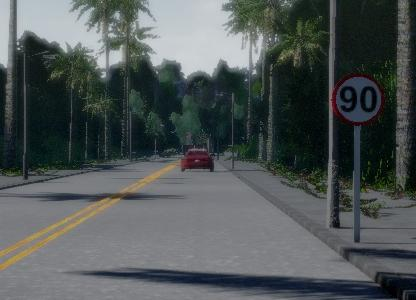Speed_90: (329, 70, 387, 127)
